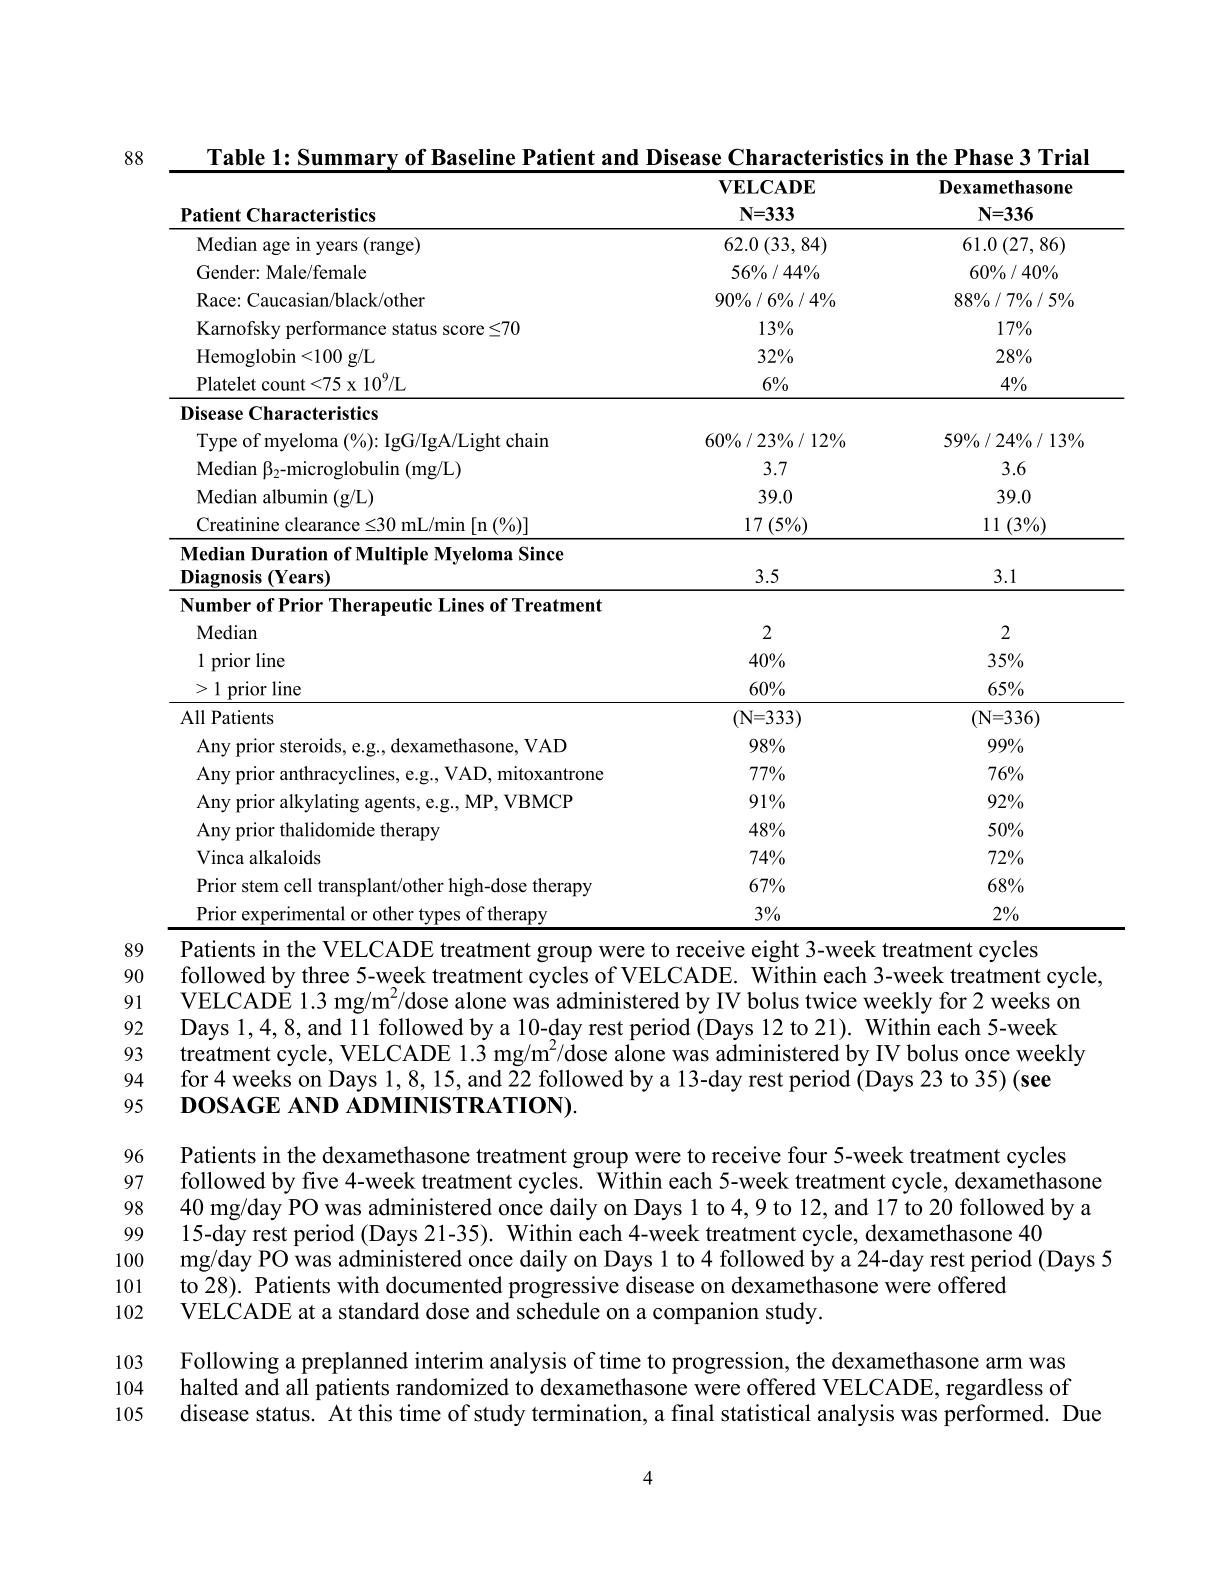partial_lined: (168, 168, 1126, 931)
